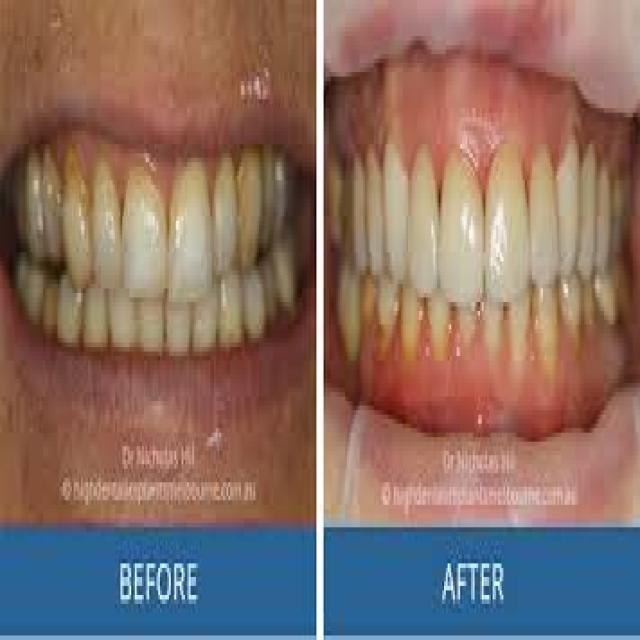tooth: (437, 122, 485, 316), (486, 121, 530, 306), (119, 162, 167, 302), (171, 144, 214, 298), (528, 126, 562, 284), (60, 126, 94, 284), (406, 140, 439, 297), (90, 140, 124, 288), (381, 126, 410, 284), (556, 113, 580, 293), (530, 252, 563, 378), (214, 149, 239, 288), (365, 136, 388, 280), (336, 257, 365, 369), (235, 144, 262, 262), (43, 140, 65, 270), (454, 270, 484, 365), (579, 122, 597, 275), (505, 275, 536, 360), (480, 284, 511, 361), (426, 280, 455, 360), (559, 261, 583, 356), (218, 261, 242, 356), (243, 252, 268, 342), (106, 275, 137, 342), (54, 270, 84, 338), (82, 280, 110, 352), (167, 284, 194, 356), (378, 262, 398, 352), (136, 284, 164, 347), (401, 279, 422, 356), (194, 288, 218, 352)
